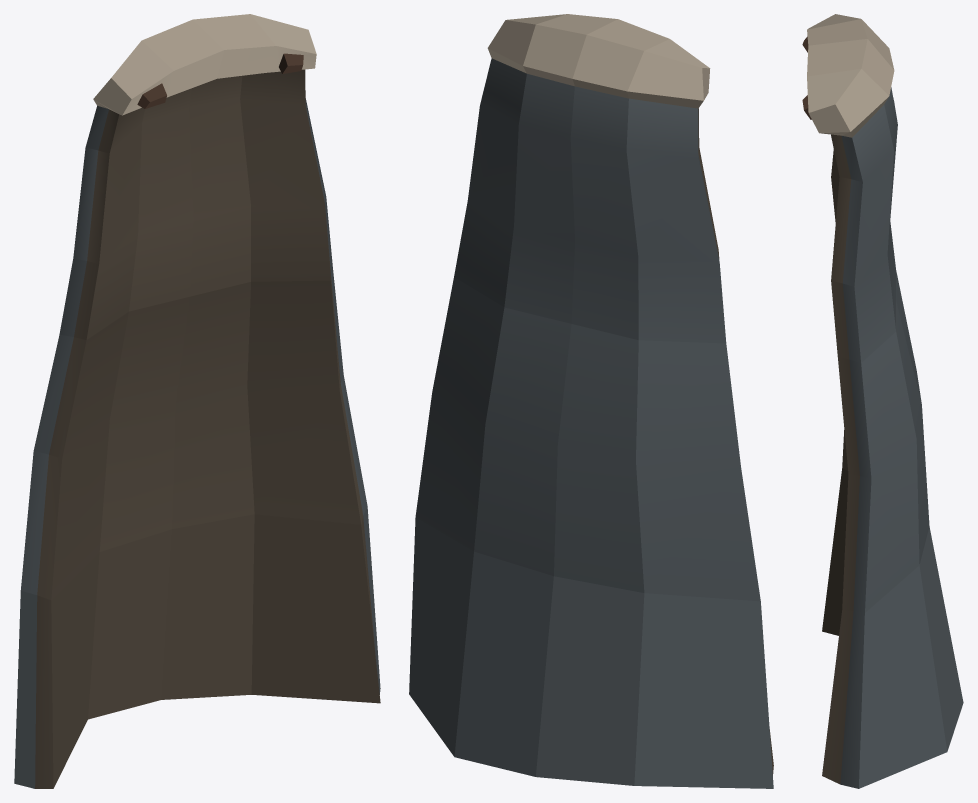
File: Chr_BackAttachment_15_Static.fbx
3 renders of one model, left to right at view 1: azimuth 30°, elevation 25°; view 2: azimuth 150°, elevation 25°; view 3: azimuth 270°, elevation 25°, orthographic. The views are drawn at different scales.
Visible parts, largest first — view 1: Chr_BackAttachment_15_Static; view 2: Chr_BackAttachment_15_Static; view 3: Chr_BackAttachment_15_Static.
Boxes of the visible parts, x1=… form: Chr_BackAttachment_15_Static: x1=14, y1=14, x2=380, y2=788; Chr_BackAttachment_15_Static: x1=409, y1=14, x2=773, y2=788; Chr_BackAttachment_15_Static: x1=802, y1=14, x2=963, y2=788.
Bounding box in the file's own units: 0.7324 × 1.37 × 0.2975.
